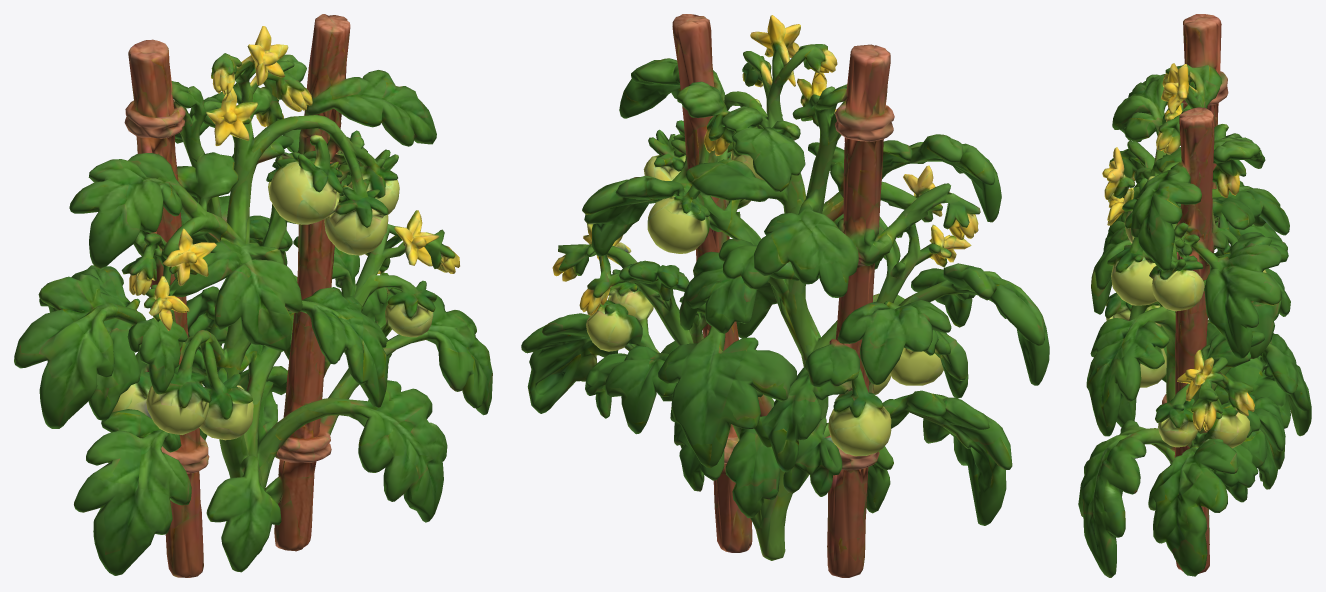
The model's file is tomato-growing.glb.
3 views of the same model, side by side, from view 1: azimuth 30°, elevation 25°; view 2: azimuth 150°, elevation 25°; view 3: azimuth 270°, elevation 25° (orthographic). The views are drawn at different scales.
Size of the model in its own units: 1.85 by 1.9 by 0.8211.
1 material, 1 textured.
